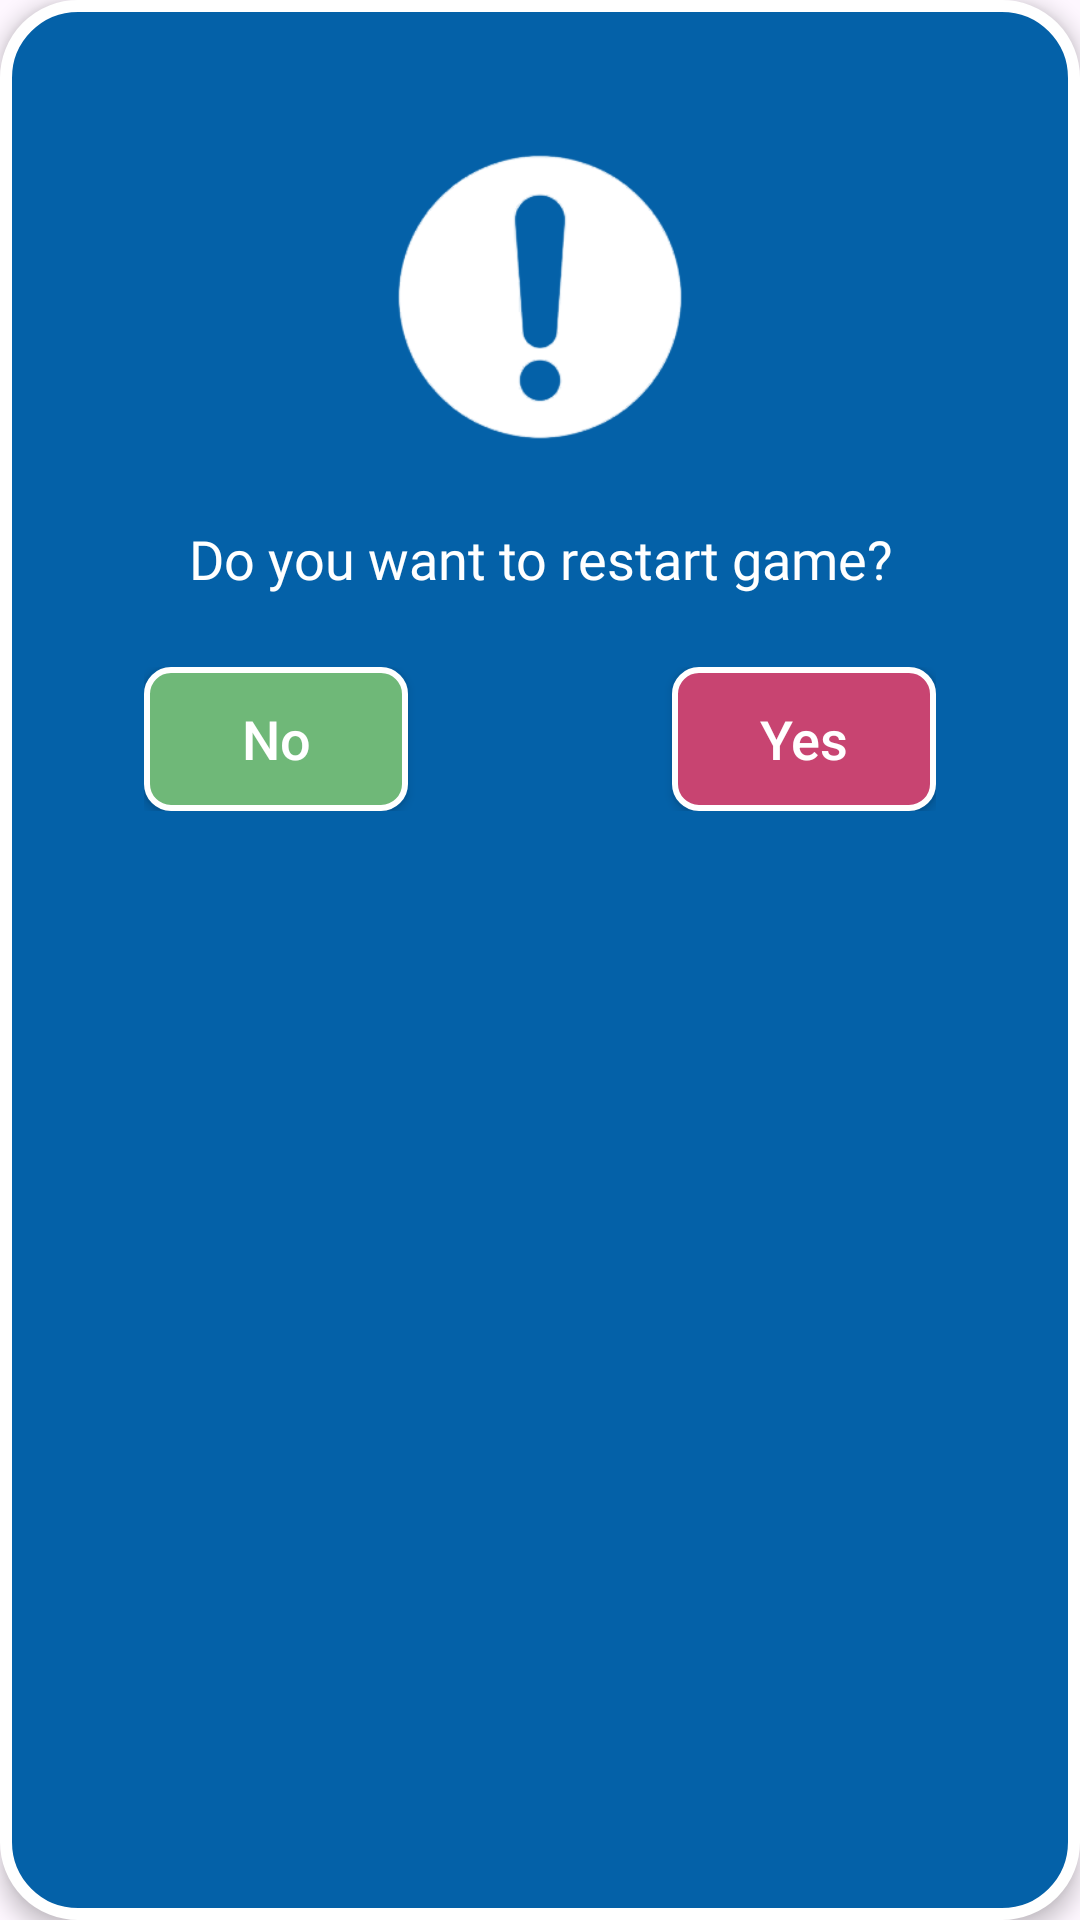

Where to tap for icons on this 1080px×1920px app screen, as (x,y):
exclamation: (540,297)
